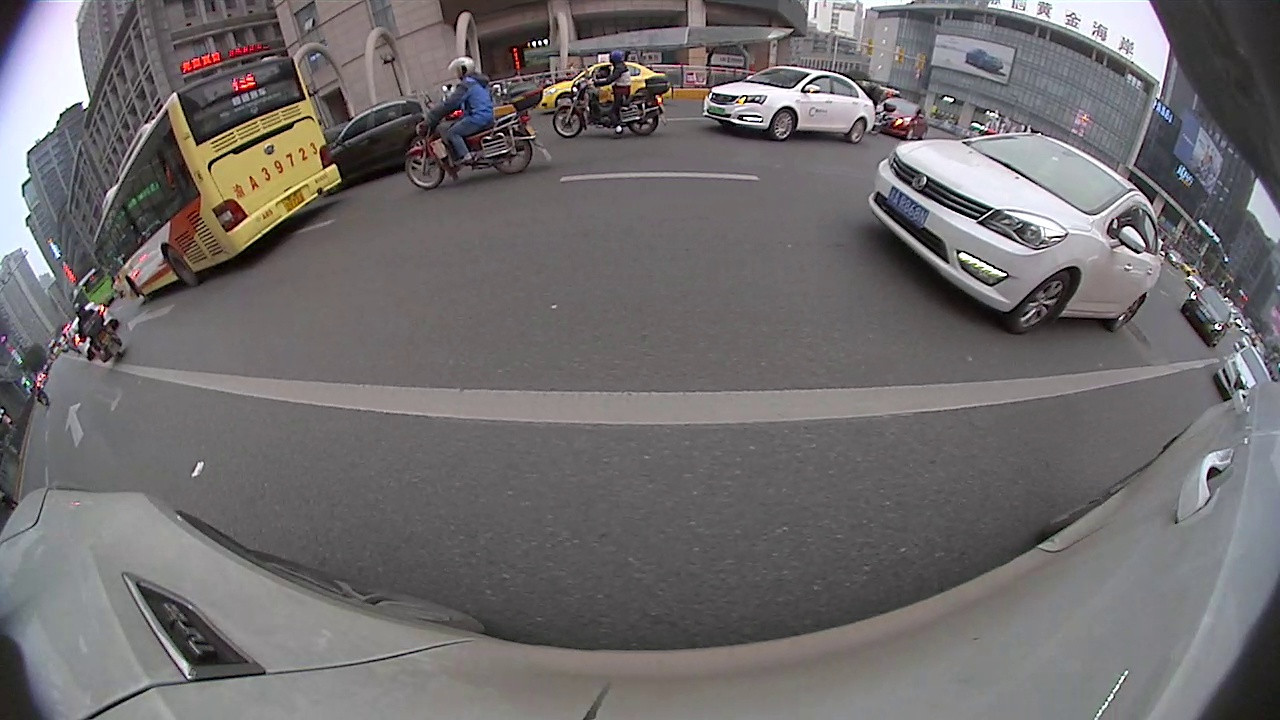bus: (87, 58, 340, 314)
car: (866, 126, 1170, 337), (701, 69, 882, 141), (1213, 344, 1274, 410), (1180, 284, 1237, 348)
front: (1006, 270, 1070, 336), (404, 146, 447, 189), (551, 104, 585, 142), (770, 107, 797, 143)
rear: (494, 135, 537, 176), (163, 242, 202, 287), (1106, 291, 1145, 332), (625, 109, 661, 139), (845, 117, 867, 146)
rider: (412, 58, 536, 189), (550, 58, 669, 147), (70, 294, 127, 370)
